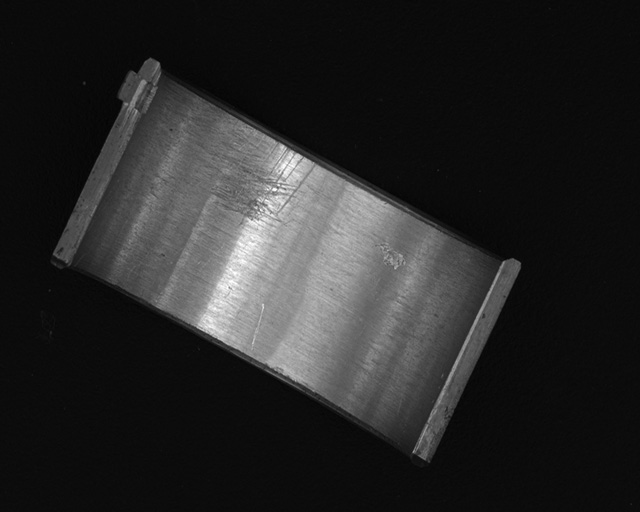bruise: (372, 242, 406, 271)
nick: (251, 303, 265, 351)
scratch: (203, 101, 317, 229)
